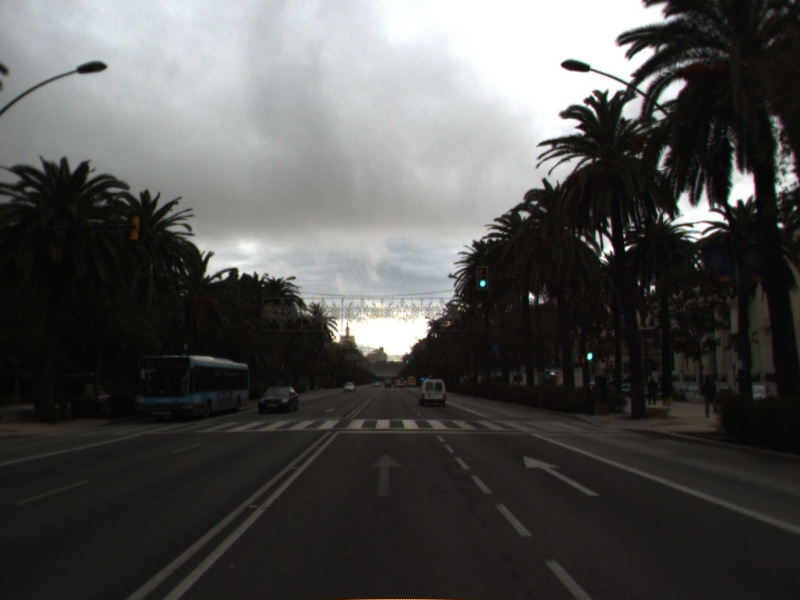STRAIGHT: (521, 453, 602, 498), (366, 451, 407, 499)
